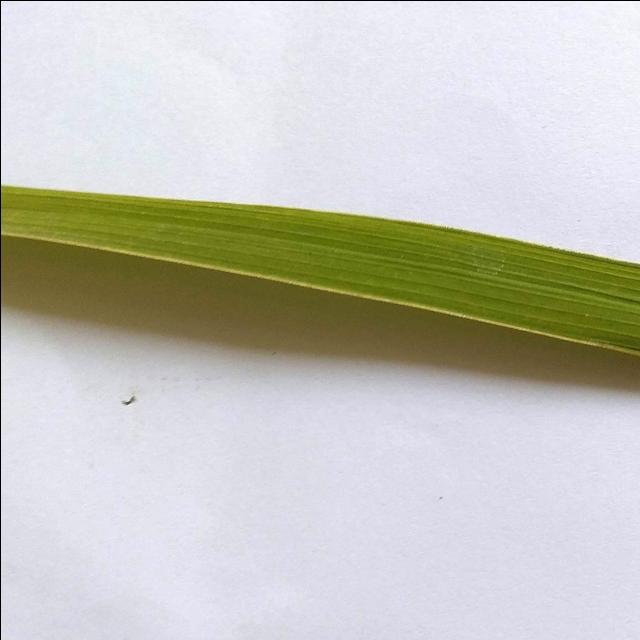healthy: (0, 154, 640, 408)
